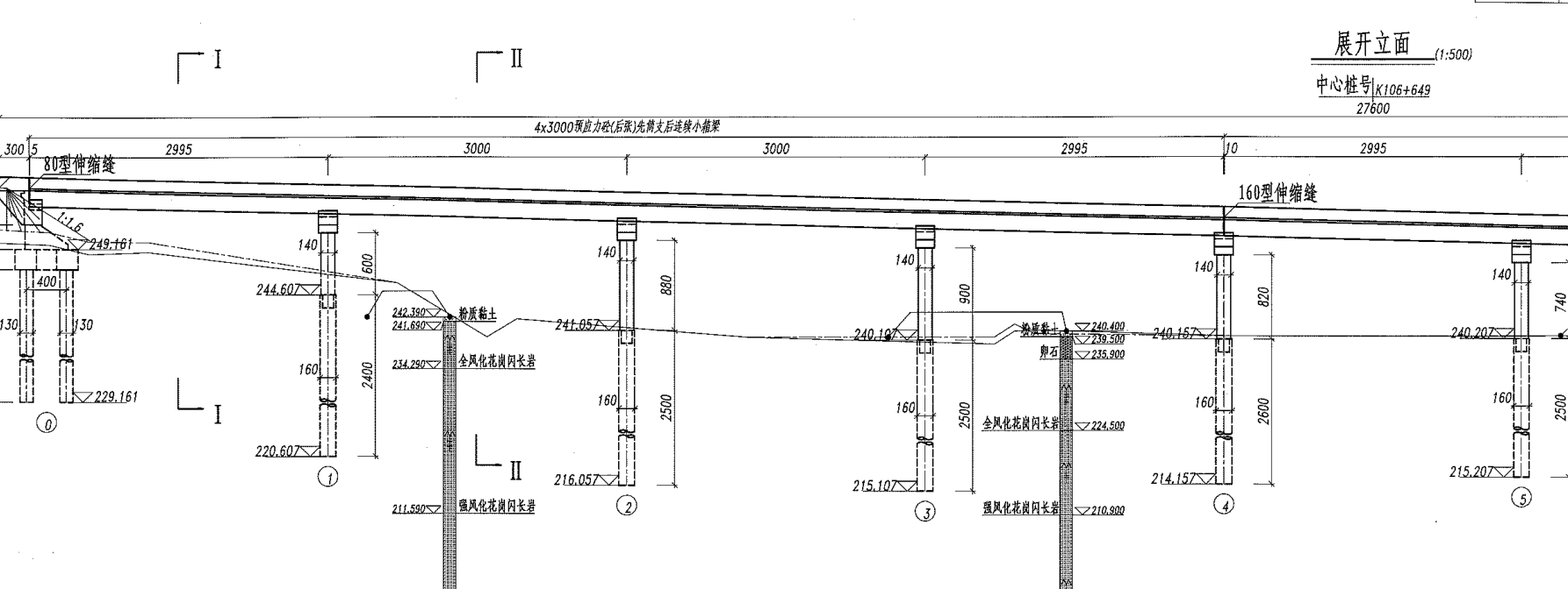A: (2, 98, 1568, 122)
B: (25, 116, 1231, 143)
C: (550, 212, 661, 520), (841, 217, 947, 526), (1435, 236, 1549, 512), (253, 204, 356, 494), (1152, 228, 1248, 525)
